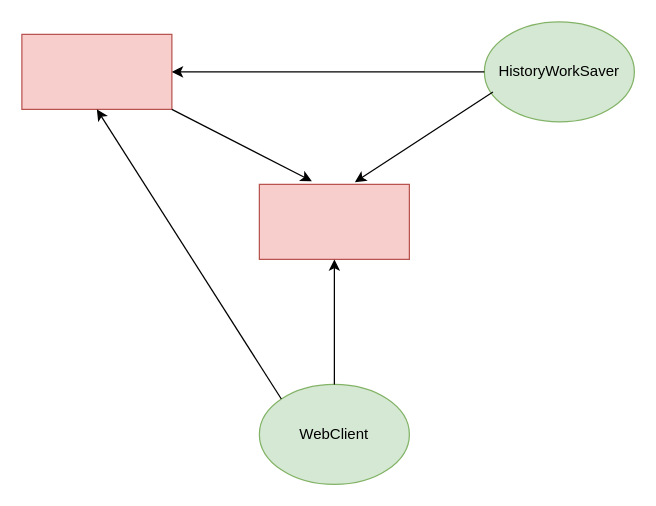
The diagram is 656 pixels wide and 506 high, and some of its shapes have lost their labels. The shapes that lost their labels are listed below. From the top down, each one's centre as x and y in pixels, then its label:
the point at 96,71: WorkServiceSaver
the point at 333,221: PubSub
